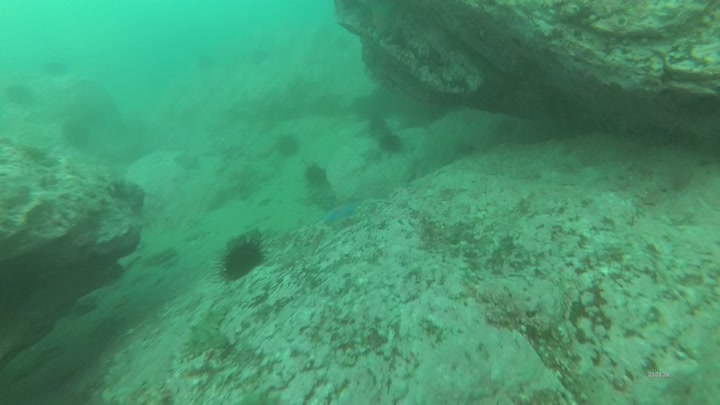echinus: (213, 236, 274, 286), (57, 120, 94, 149), (273, 135, 305, 161), (365, 116, 393, 140), (301, 165, 331, 187), (376, 134, 405, 156)
holothurian: (141, 247, 181, 271)
starfish: (322, 201, 361, 229), (173, 153, 205, 174)
